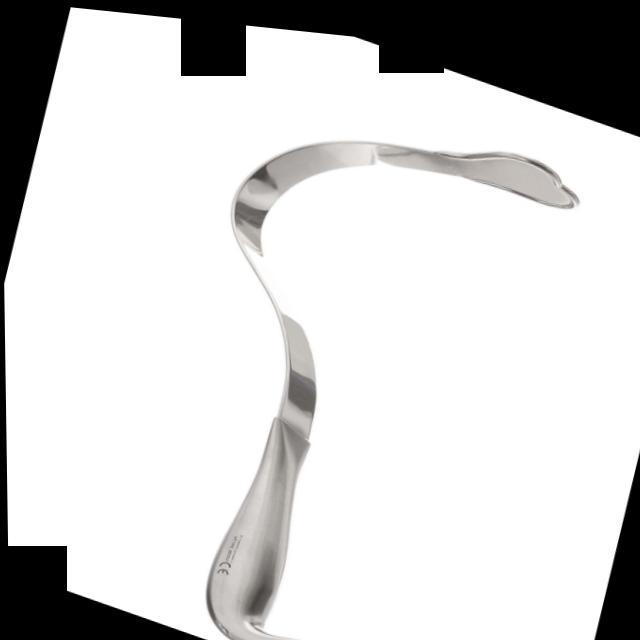Hrrington retractor: (116, 36, 594, 640)
